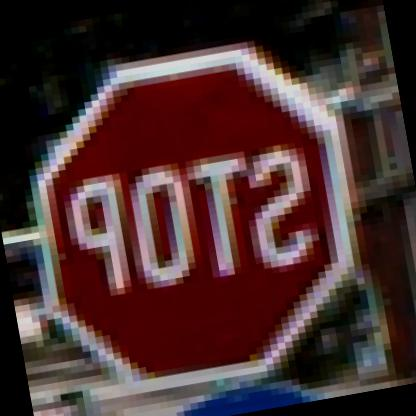stop: (18, 23, 389, 406)
